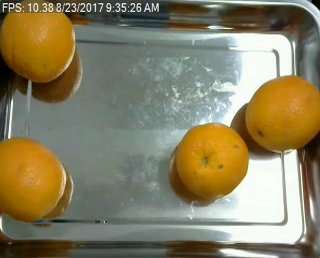Orange: (1, 1, 76, 83), (175, 121, 249, 200), (244, 74, 319, 151), (1, 136, 68, 219)
